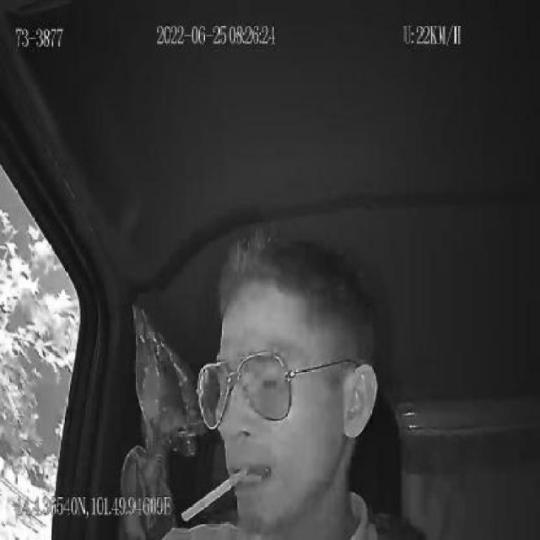smoking: (180, 466, 251, 522)
